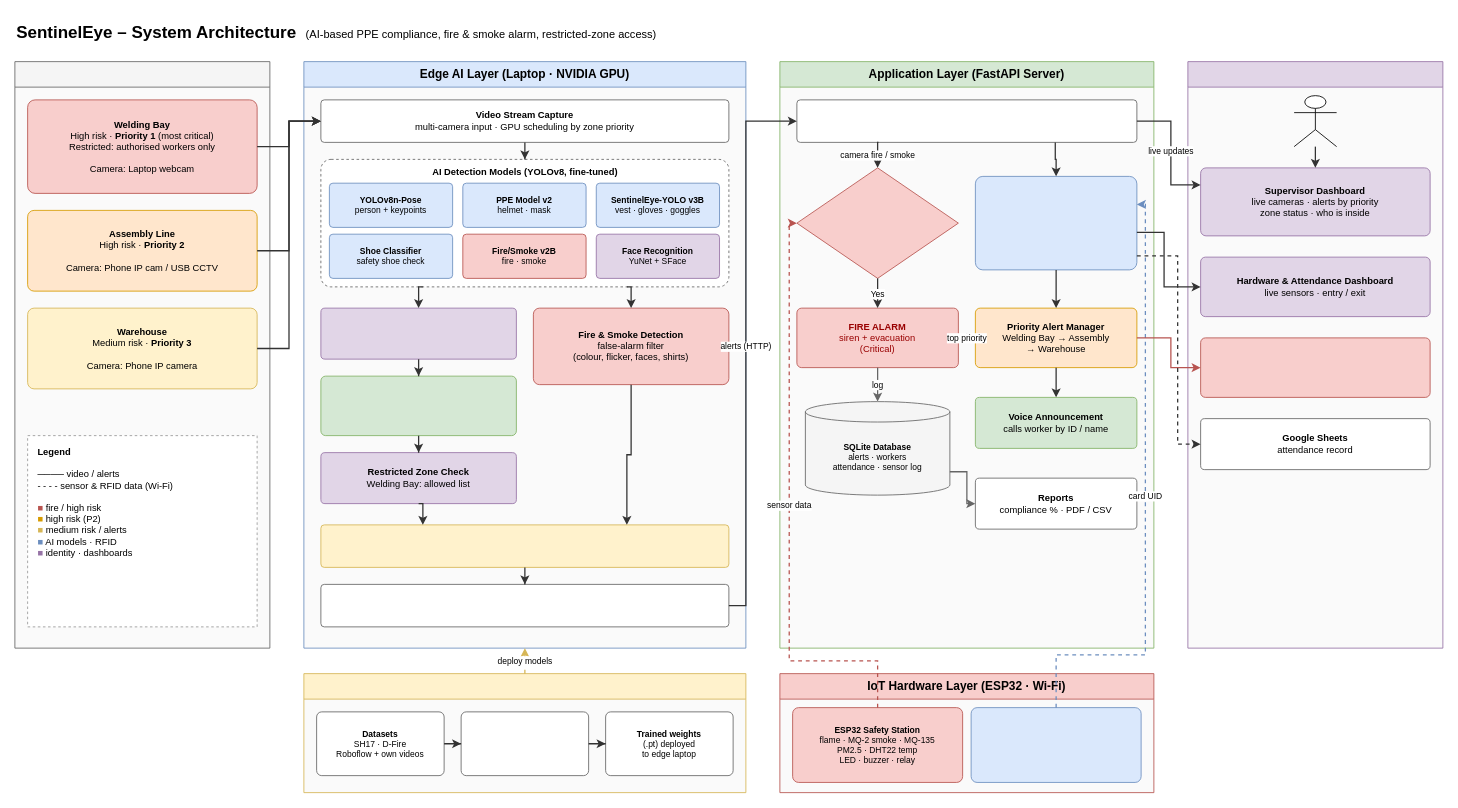
This 1458x808 diagram has some shape labels left out. The box of each missing label's shape, as (x1, y1, x2, y2) in pixels:
Alert Generation severity (Critical / High / Medium / Low) + zone priority: (320, 524, 729, 567)
ESP32 RFID Reader RC522 · Welding Bay entrance card tap = entry / exit: (970, 707, 1141, 782)
Event Handler PPE violations restricted-zone access RFID entry / exit: (975, 176, 1137, 270)
Field Layer (Factory Floor): (14, 61, 270, 648)
Fine-tune YOLOv8 Stage A: public Stage B: own data: (460, 711, 589, 776)
Fire Alarm Logic camera OR sensor detects fire / smoke?: (796, 167, 958, 278)
Local Alert Queue (offline buffer, snapshot with blurred faces): (320, 584, 729, 627)
Model Training (Offline · Google Colab GPU): (303, 673, 746, 793)
On-site Alarms speaker voice · siren station buzzer · LED · relay: (1200, 337, 1430, 397)
PPE Compliance Check gear matched to each worker zone-wise required PPE: (320, 375, 516, 436)
Presentation & Response: (1187, 61, 1443, 648)
REST API + WebSocket receives camera alerts, sensor data, RFID scans: (796, 99, 1137, 142)
Supervisor: (1293, 95, 1337, 147)
Worker Identification tracking + face ID (W-001…): (320, 307, 516, 359)
